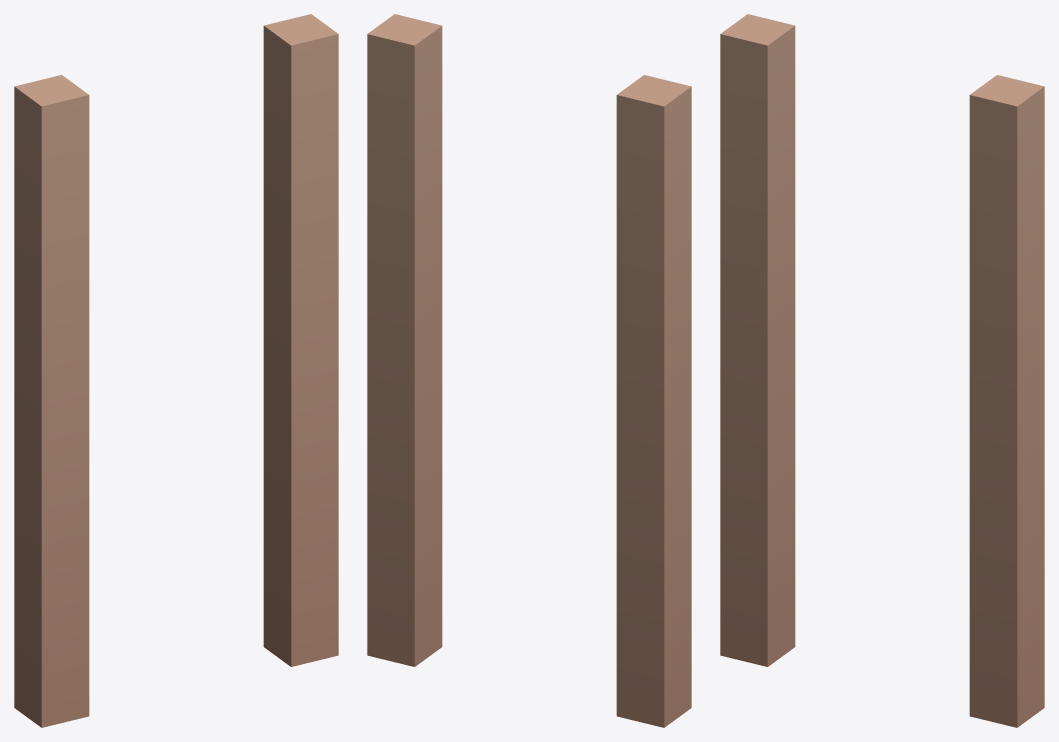
File: window-brown-round-middle.glb
The picture shows the model from 3 angles, left to right: view 1: azimuth 30°, elevation 25°; view 2: azimuth 150°, elevation 25°; view 3: azimuth 330°, elevation 25°; orthographic projection.
Parts seen in each view (by area): view 1: window-brown-round-middle; view 2: window-brown-round-middle; view 3: window-brown-round-middle.
Part boxes in pixels (x1,y1,x2,y2): window-brown-round-middle: (14, 14, 338, 727); window-brown-round-middle: (367, 14, 691, 727); window-brown-round-middle: (720, 14, 1044, 727).
Bounding box in the file's own units: 0.3125 × 0.625 × 0.05.
